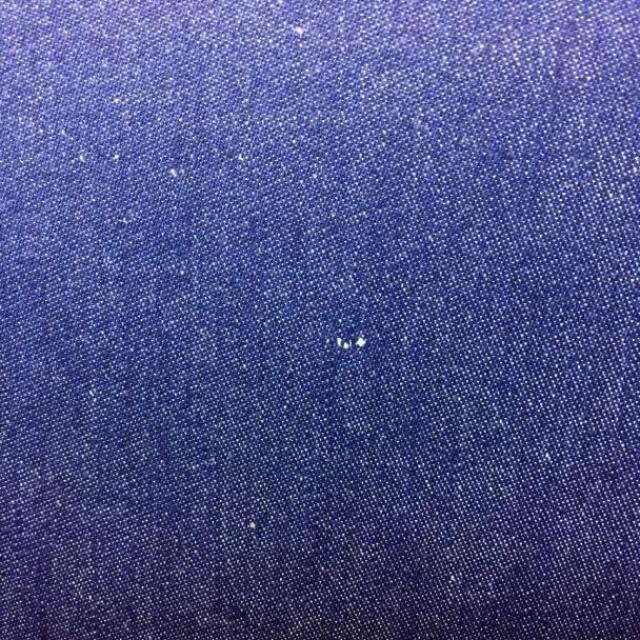Knot: (336, 337, 367, 350)
